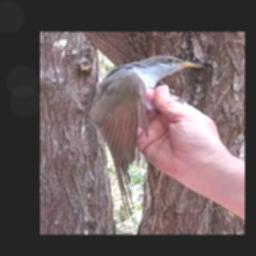Cuckoo: (90, 55, 203, 218)
